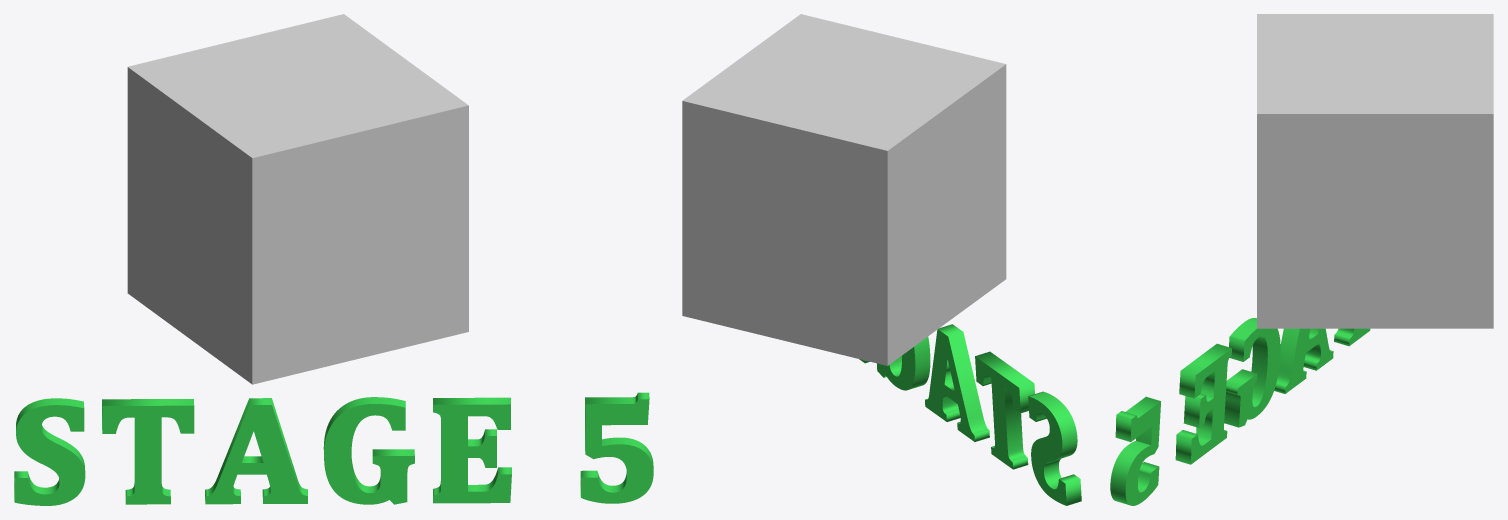
Rendered from Stage5.glb.
The picture shows the model from 3 angles, left to right: view 1: azimuth 30°, elevation 25°; view 2: azimuth 150°, elevation 25°; view 3: azimuth 270°, elevation 25°; orthographic projection. The views are drawn at different scales.
Visible parts, largest first — view 1: Cube, Text; view 2: Cube, Text; view 3: Cube, Text.
Part boxes in pixels (x1=…): Cube: x1=127, y1=14, x2=468, y2=384; Text: x1=14, y1=392, x2=653, y2=505; Cube: x1=682, y1=14, x2=1006, y2=365; Text: x1=859, y1=324, x2=1081, y2=505; Cube: x1=1257, y1=14, x2=1493, y2=328; Text: x1=1110, y1=318, x2=1370, y2=505.
Size of the model in its own units: 4.53 by 3.25 by 3.24.
